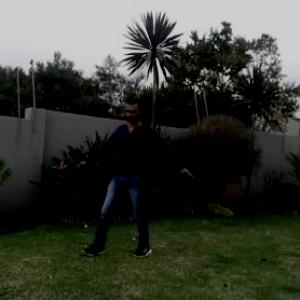land: (86, 105, 190, 236)
